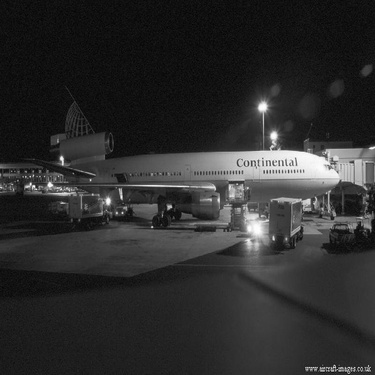airplane: (19, 82, 349, 222)
